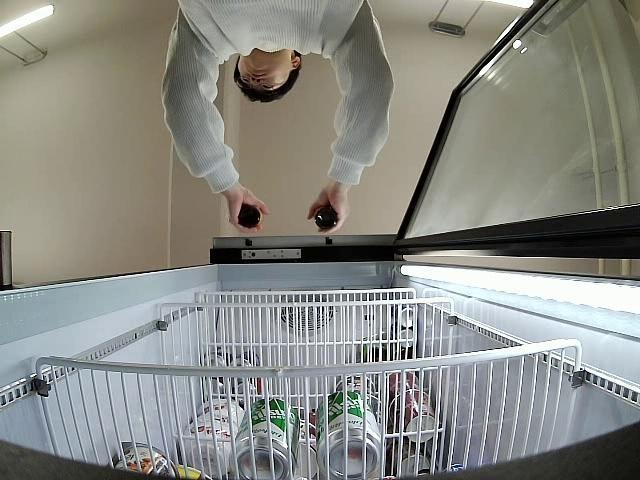17_vita500: (237, 202, 264, 228), (314, 205, 339, 231)
